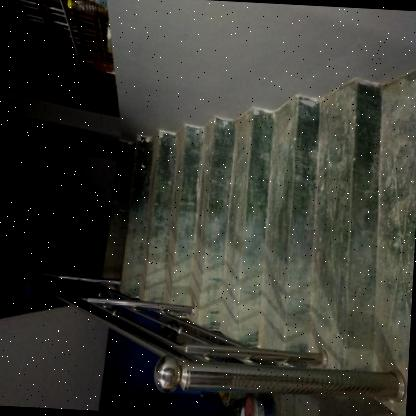stair: (79, 74, 416, 371)
